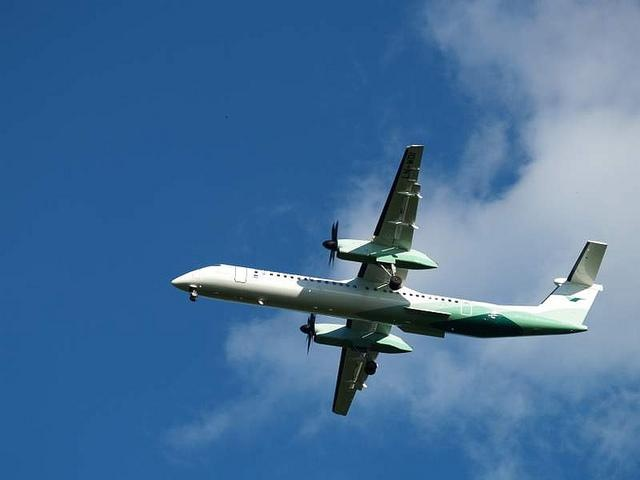airplane: (169, 146, 610, 417)
